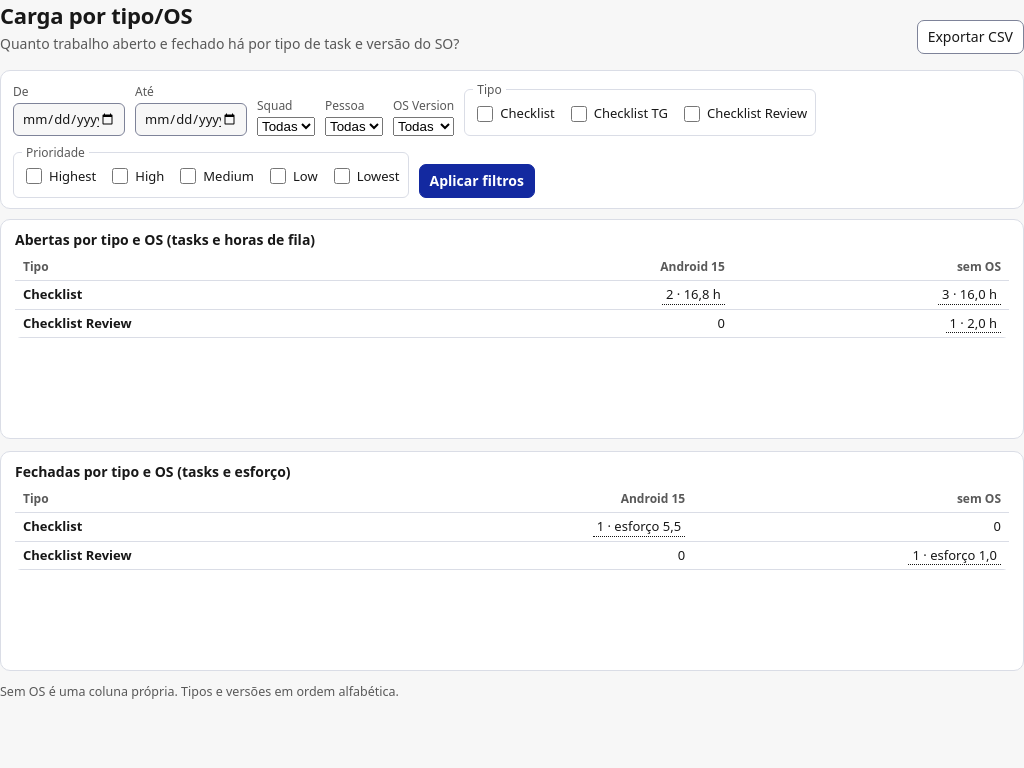
Test case: tela Carga por tipo e OS › celulaAbreAGavetaComMesmoTamanho
Click the button named "Checklist, sem OS: 3" at (970, 295), box x1=938 y1=285 x2=1001 y2=304
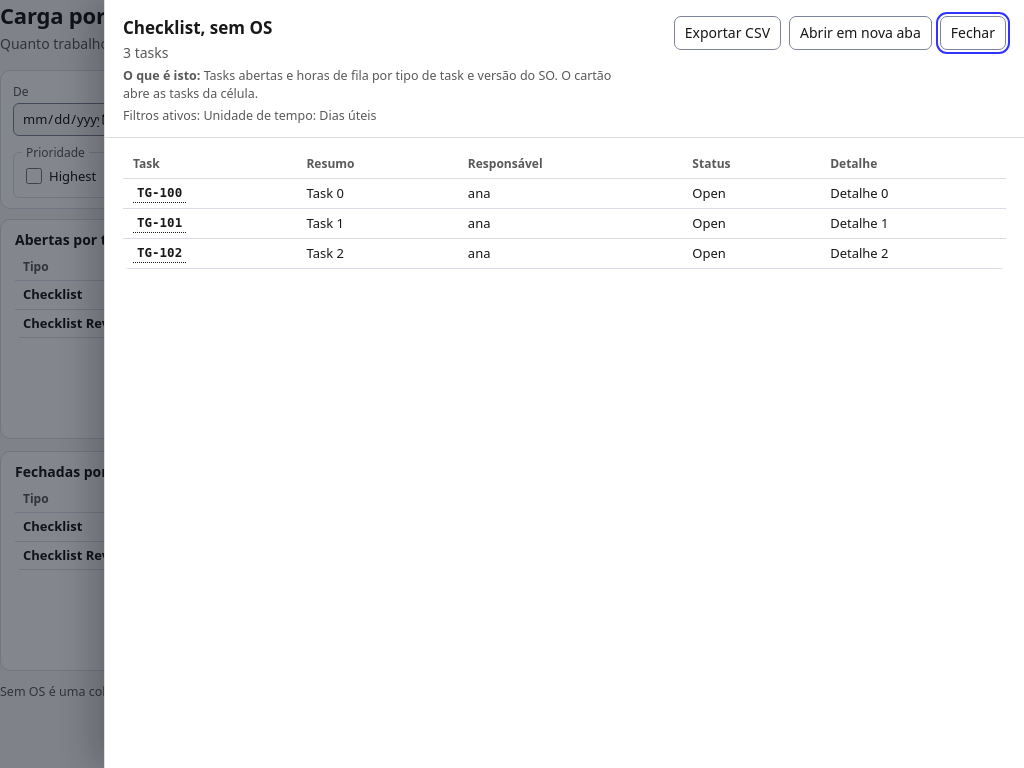
Result: the text "3 tasks" is shown at x1=123 y1=43 x2=168 y2=62
